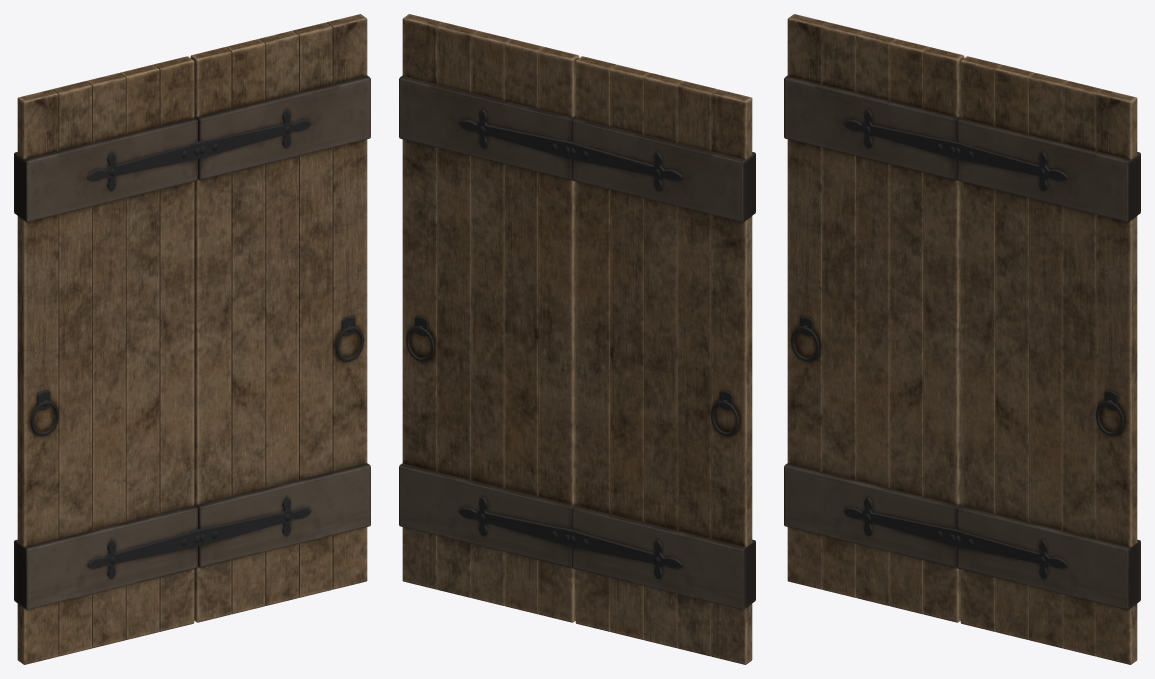
File: BW_Chapel01_MainDoor.fbx
The picture shows the model from 3 angles, left to right: view 1: azimuth 30°, elevation 25°; view 2: azimuth 150°, elevation 25°; view 3: azimuth 330°, elevation 25°; orthographic projection.
Parts seen in each view (by area): view 1: BW_Chapel01_MainDoor; view 2: BW_Chapel01_MainDoor; view 3: BW_Chapel01_MainDoor.
Boxes of the visible parts, x1,y1,x2,y2 form: BW_Chapel01_MainDoor: [14, 14, 370, 664]; BW_Chapel01_MainDoor: [399, 14, 755, 664]; BW_Chapel01_MainDoor: [784, 14, 1140, 664].
Bounding box in the file's own units: 1.58 × 2.47 × 0.1318.
